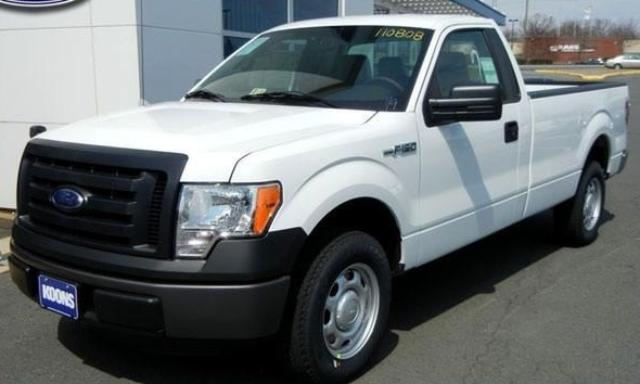pickup-truck: (7, 12, 632, 383)
